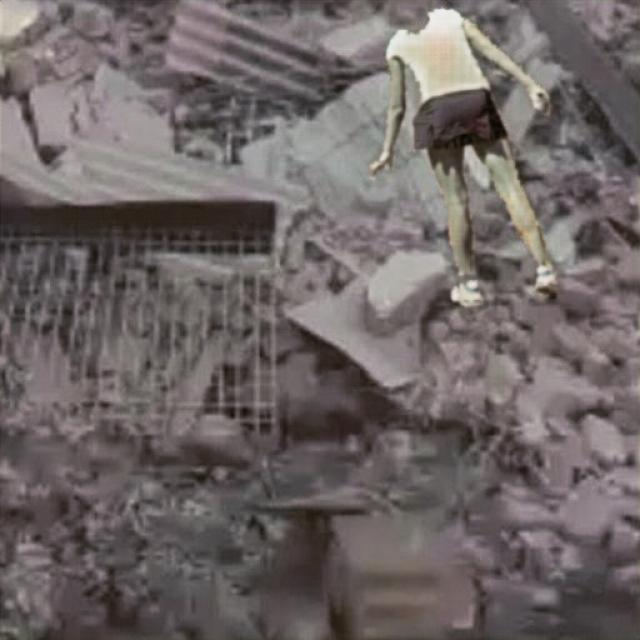Person in Rubble: (370, 7, 555, 305)
